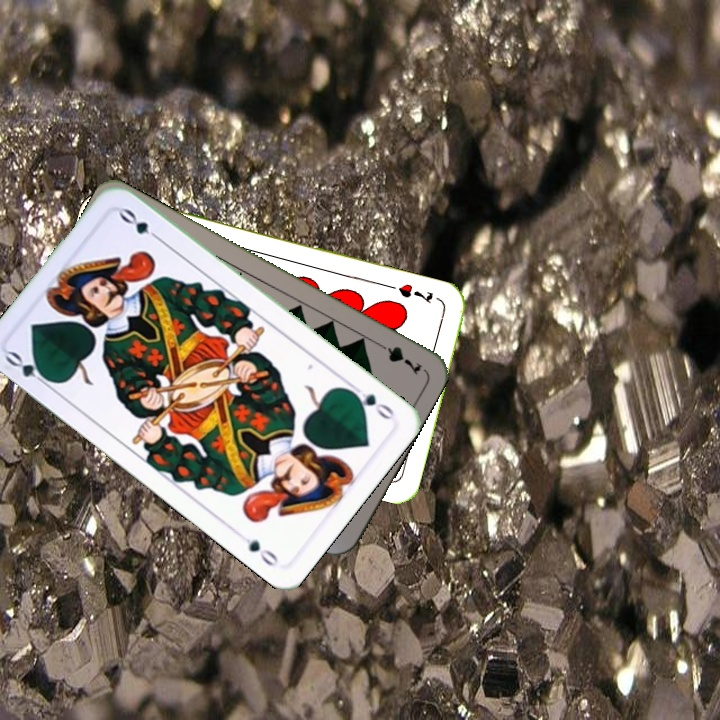G7: (371, 337, 425, 377)
GO: (1, 347, 56, 391), (344, 380, 397, 423)
H7: (394, 279, 436, 305)
